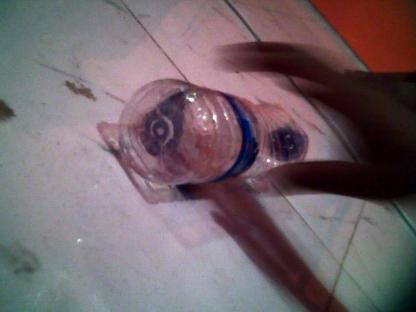Plastic Bottle: (118, 78, 310, 190)
